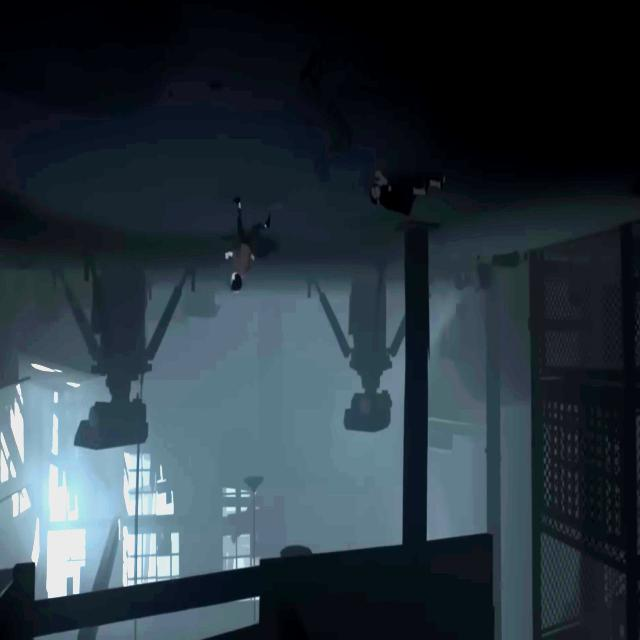boy: (225, 196, 271, 292)
zombie: (369, 170, 446, 217)
